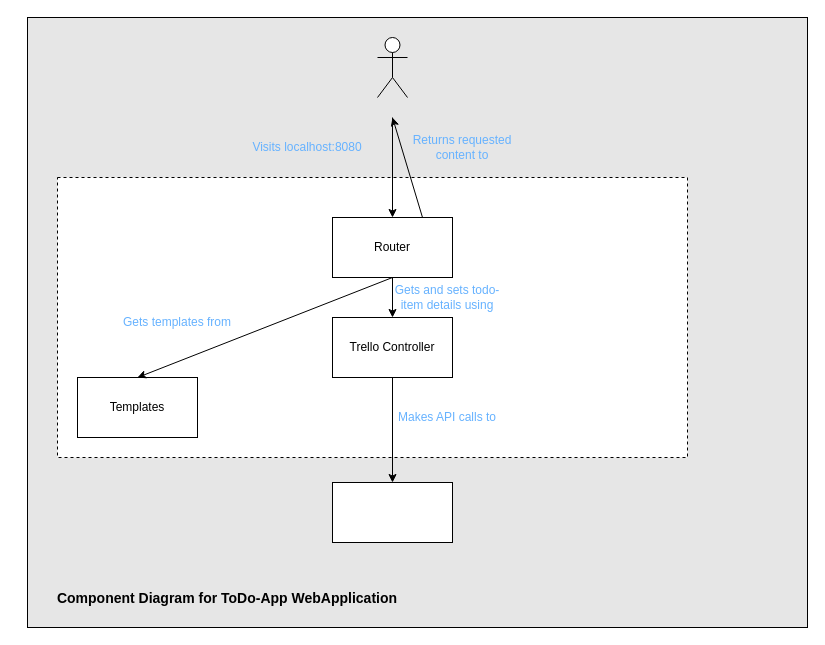
Image size: 825x645. Some labels were removed from this diagram. The centre of each missing label's shape, as x and y in pixels:
Trello API: the point at 392,512
User: the point at 392,67
